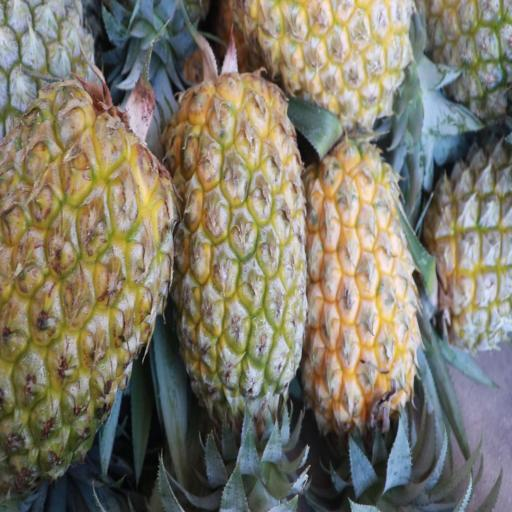------------------------------: (431, 146, 512, 356)
Pineapple - v8 v1: (0, 114, 172, 495), (177, 76, 307, 414), (305, 142, 418, 430), (230, 0, 415, 122)
